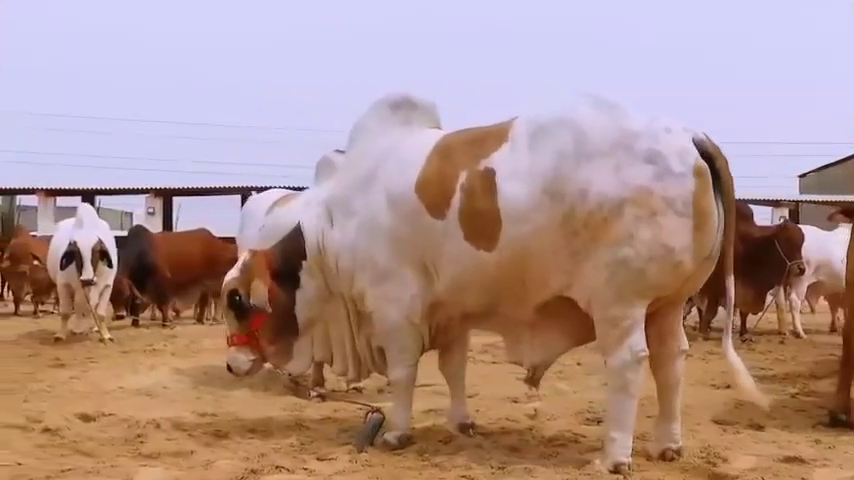bo: (197, 79, 780, 480), (100, 204, 239, 339), (695, 190, 805, 336), (46, 188, 116, 348), (773, 204, 847, 342), (1, 213, 60, 328)
